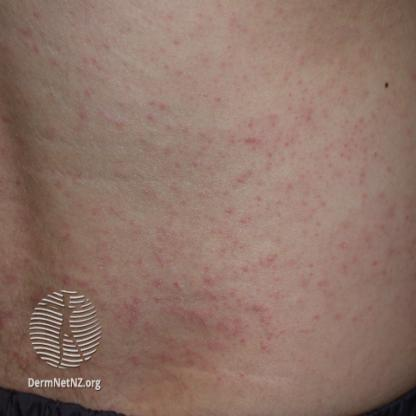Chicken Skin: (187, 258, 266, 336)
